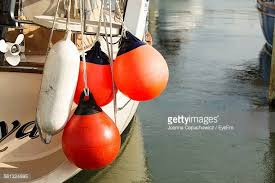buoy: (61, 114, 120, 172), (113, 45, 170, 101), (70, 57, 116, 106)
